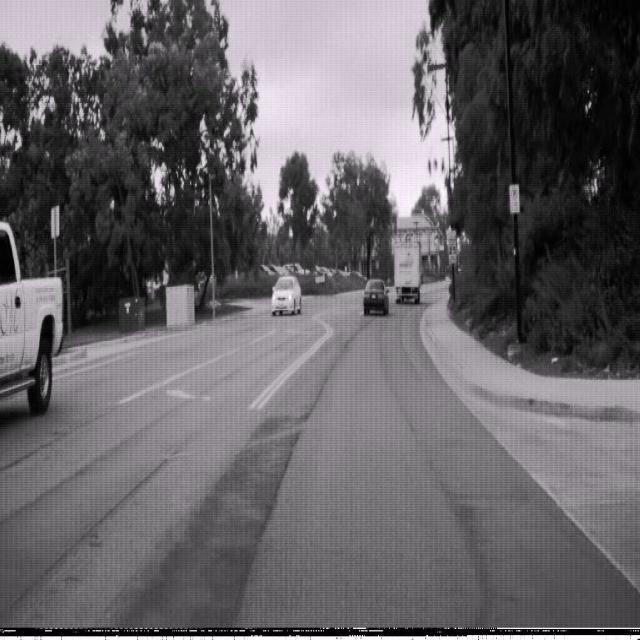speedLimit25: (446, 228, 458, 265)
